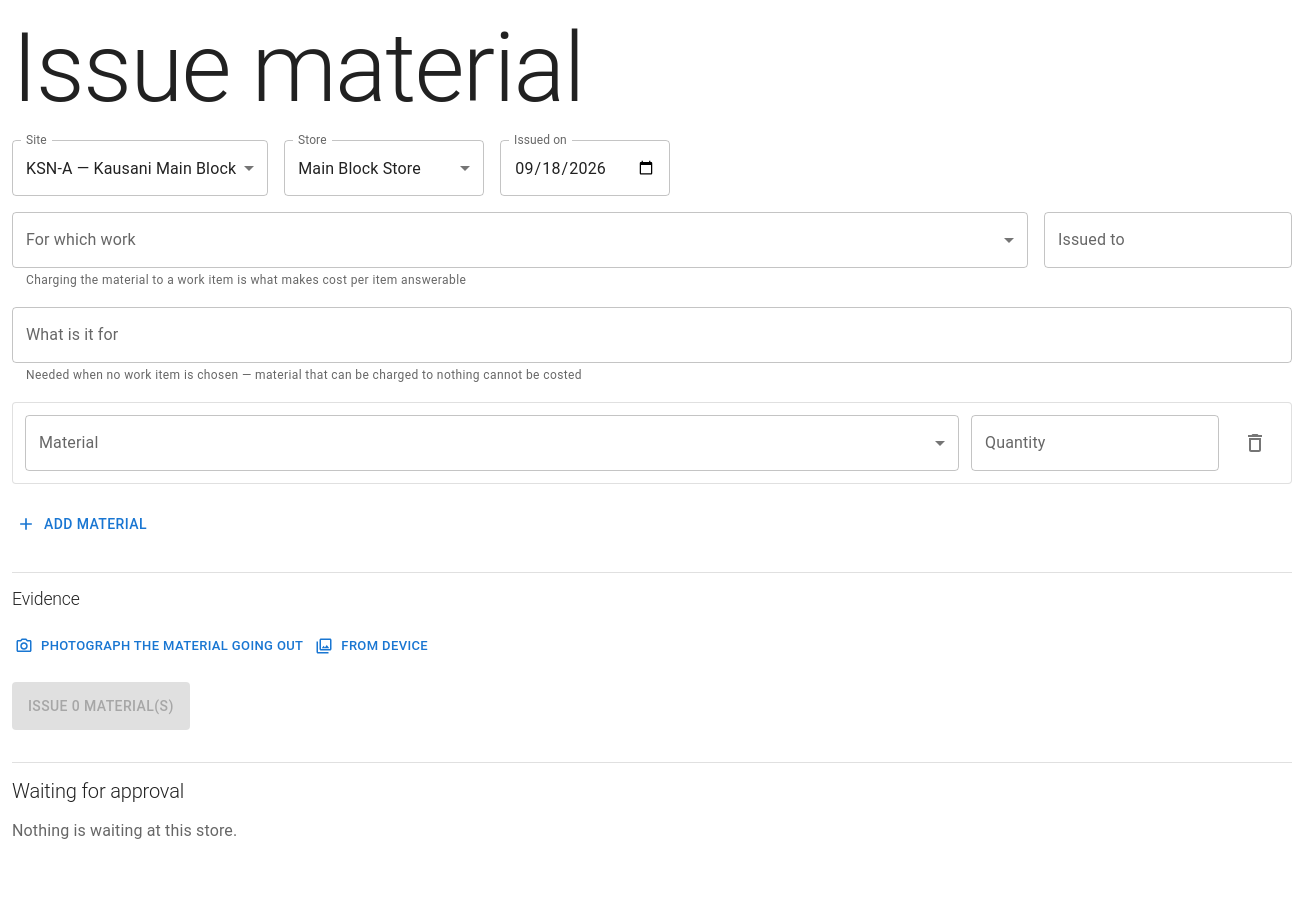
Test: IssueMaterialPage › leaves the parser placeholder out of the work items an issue can be charged to
Click the dropdown named "For which work" next to "For which work": (520, 240) [12,212,1028,268]
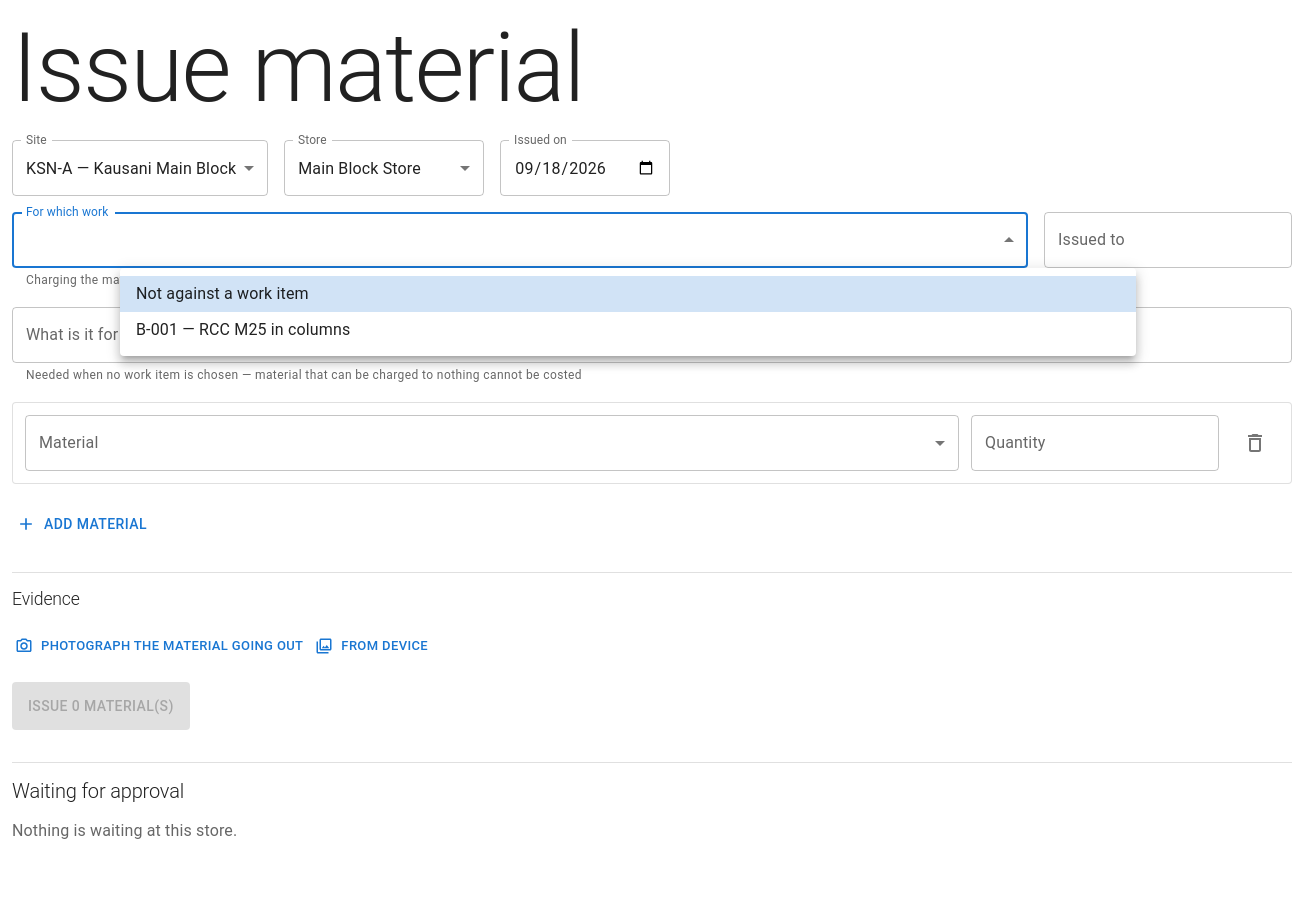
Expected: the option "B-001 — RCC M25 in columns" is shown, [136,320,350,339]
